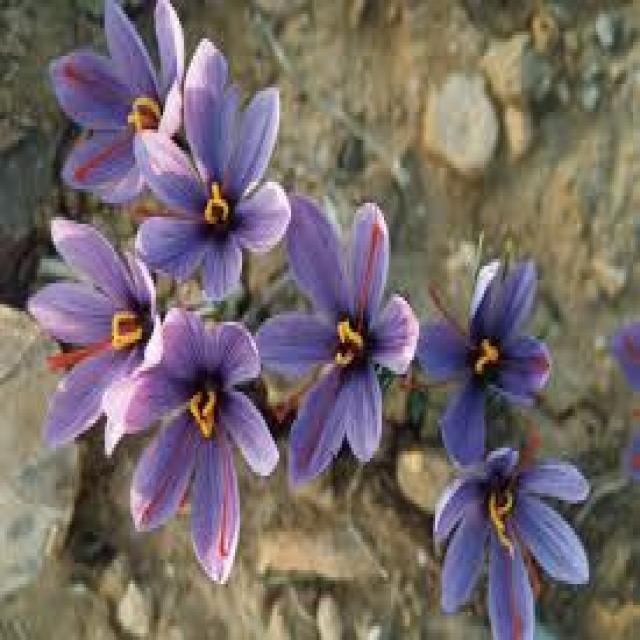Flower: (259, 178, 418, 451), (135, 308, 273, 588), (19, 212, 168, 446), (424, 446, 602, 634), (39, 0, 205, 201), (157, 60, 304, 284), (425, 264, 550, 452)
stigma: (354, 208, 382, 345), (46, 330, 113, 376), (51, 52, 114, 96), (76, 134, 127, 185), (215, 448, 233, 554)
